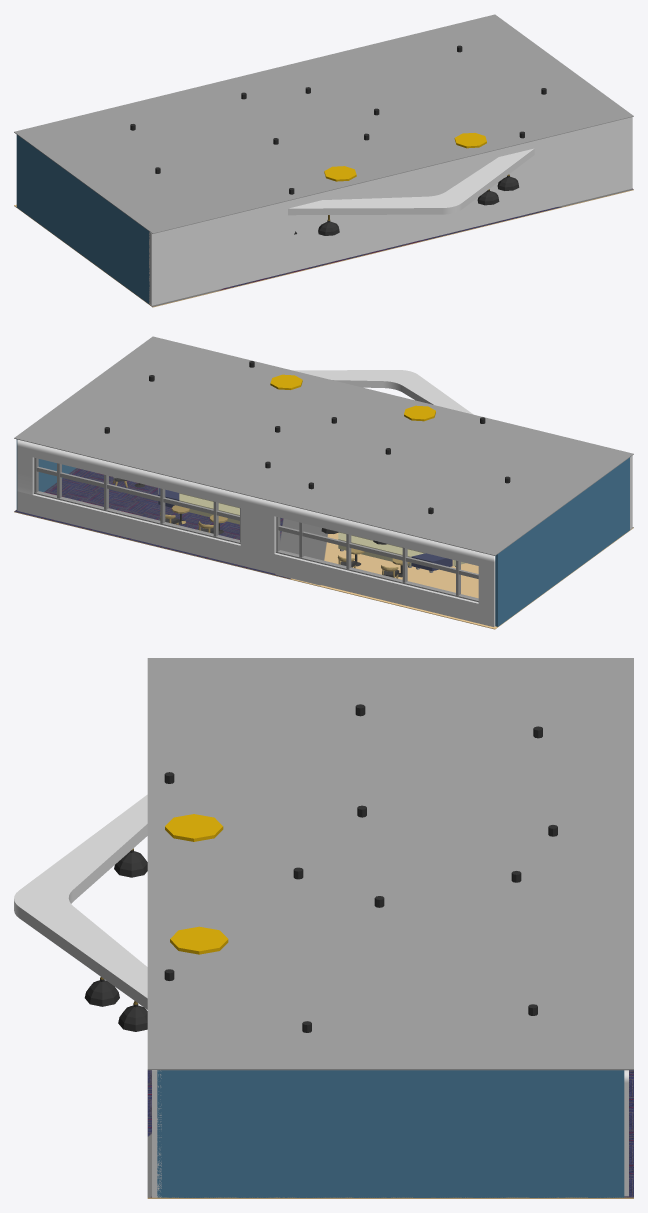
The model's file is FTIC Lounge Area (1).fbx.
The picture shows the model from 3 angles, top to bottom: view 1: azimuth 30°, elevation 25°; view 2: azimuth 150°, elevation 25°; view 3: azimuth 270°, elevation 25°; orthographic projection. The views are drawn at different scales.
Visible parts, largest first — view 1: FTIC_Roof, Front_Wall, FTIC_Left_Wall, FTIC_Ceiling_Decor, FTIC_Floor, FTIC_Lounge_Pillar_2; view 2: FTIC_Roof, FTIC_Back_Wall, FTIC_Left_Wall, FTIC_Floor, FTIC_Back_Window, FTIC_Ceiling_Decor, Main_Sofa_4 (×2), FTIC_Right_Wall, FTIC_Lounge_Pillar_2; view 3: FTIC_Roof, FTIC_Right_Wall, FTIC_Ceiling_Decor, FTIC_Floor, FTIC_Lounge_Pillar_2, FTIC_Lounge_Pillar_1, Front_Wall.
Part boxes in pixels (x1=…): FTIC_Roof: x1=14, y1=14, x2=633, y2=233; Front_Wall: x1=149, y1=117, x2=632, y2=305; FTIC_Left_Wall: x1=16, y1=134, x2=149, y2=303; FTIC_Ceiling_Decor: x1=288, y1=148, x2=534, y2=215; FTIC_Floor: x1=14, y1=188, x2=633, y2=307; FTIC_Lounge_Pillar_2: x1=324, y1=166, x2=356, y2=181; FTIC_Roof: x1=14, y1=336, x2=633, y2=555; FTIC_Back_Wall: x1=17, y1=439, x2=495, y2=626; FTIC_Left_Wall: x1=495, y1=457, x2=630, y2=626; FTIC_Floor: x1=14, y1=468, x2=633, y2=629; FTIC_Back_Window: x1=34, y1=463, x2=478, y2=602; FTIC_Ceiling_Decor: x1=293, y1=370, x2=473, y2=414; Main_Sofa_4 (×2): x1=179, y1=493, x2=425, y2=566; FTIC_Right_Wall: x1=16, y1=439, x2=76, y2=509; FTIC_Lounge_Pillar_2: x1=404, y1=405, x2=435, y2=421; FTIC_Roof: x1=147, y1=658, x2=633, y2=1070; FTIC_Right_Wall: x1=157, y1=1070, x2=624, y2=1197; FTIC_Ceiling_Decor: x1=14, y1=794, x2=147, y2=1009; FTIC_Floor: x1=147, y1=1070, x2=633, y2=1198; FTIC_Lounge_Pillar_2: x1=165, y1=814, x2=223, y2=841; FTIC_Lounge_Pillar_1: x1=170, y1=926, x2=228, y2=954; Front_Wall: x1=152, y1=1070, x2=161, y2=1197.
Size of the model in its own units: 200 by 32.04 by 128.
Materials: 14 (1 with a texture image).
